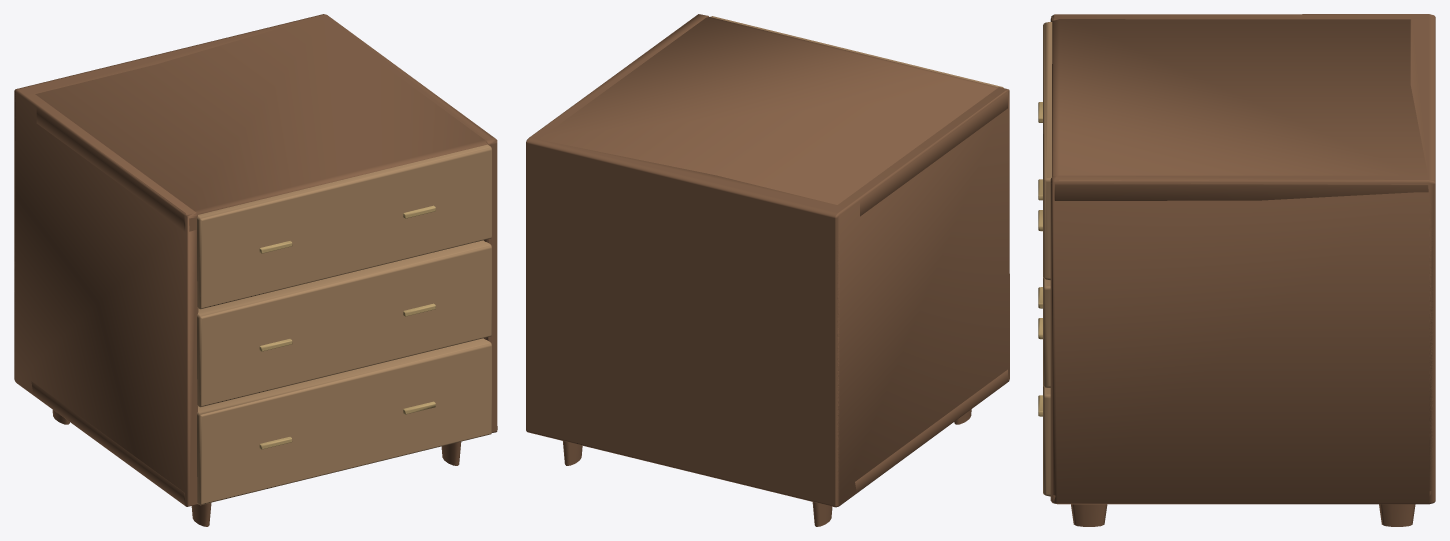
Rendered from cabinet-3-1.lod.glb.
The picture shows the model from 3 angles, left to right: view 1: azimuth 30°, elevation 25°; view 2: azimuth 150°, elevation 25°; view 3: azimuth 270°, elevation 25°; orthographic projection. The views are drawn at different scales.
Visible parts, largest first — view 1: part, upholstery (×2); view 2: part, upholstery; view 3: part, upholstery (×2).
Part boxes in pixels (x1=…): part: x1=14, y1=14, x2=497, y2=526; upholstery (×2): x1=197, y1=144, x2=491, y2=505; part: x1=526, y1=14, x2=1009, y2=526; upholstery: x1=710, y1=16, x2=1003, y2=87; part: x1=1050, y1=14, x2=1435, y2=526; upholstery (×2): x1=1038, y1=22, x2=1052, y2=496.
Bounding box in the file's own units: 1 × 1 × 1.
